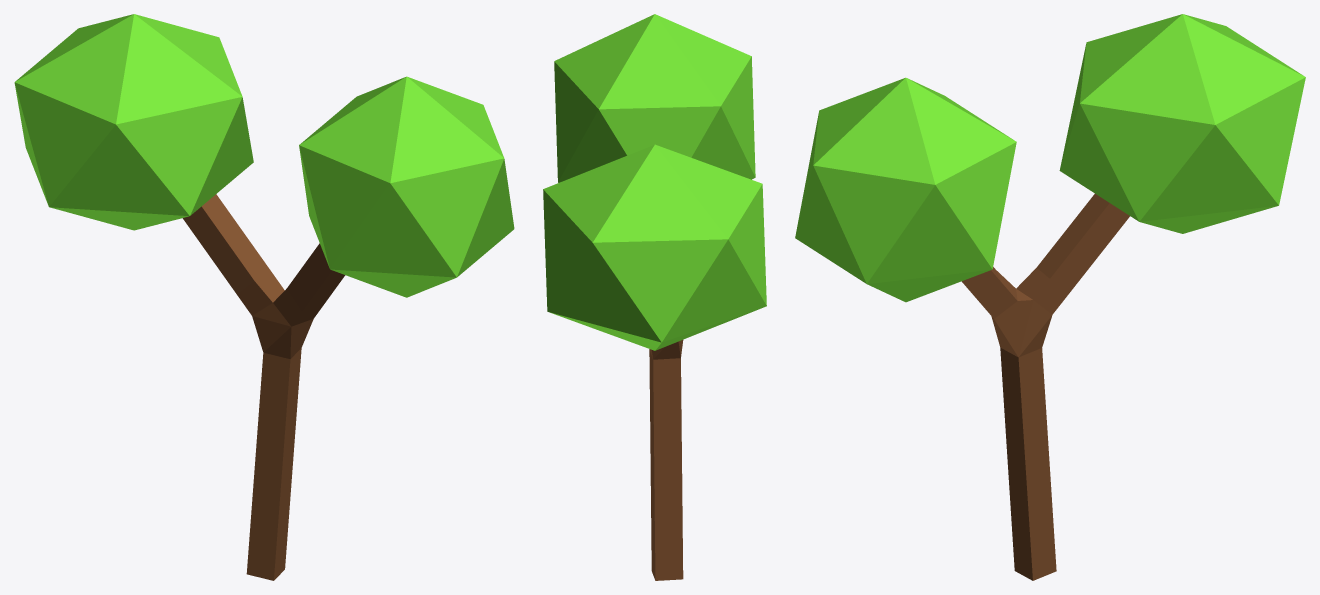
Rendered from Oak1.fbx.
3 views of the same model, side by side, from view 1: azimuth 30°, elevation 25°; view 2: azimuth 150°, elevation 25°; view 3: azimuth 270°, elevation 25° (orthographic). The views are drawn at different scales.
Parts seen in each view (by area): view 1: Icosphere.006, Icosphere.007, Cube.003; view 2: Icosphere.006, Icosphere.007, Cube.003; view 3: Icosphere.006, Icosphere.007, Cube.003.
Boxes of the visible parts, x1,y1,x2,y2 form: Icosphere.006: [14, 14, 253, 230]; Icosphere.007: [299, 76, 514, 297]; Cube.003: [182, 194, 345, 580]; Icosphere.006: [543, 144, 766, 350]; Icosphere.007: [554, 14, 755, 182]; Cube.003: [649, 340, 683, 580]; Icosphere.006: [1059, 14, 1305, 233]; Icosphere.007: [795, 77, 1016, 302]; Cube.003: [962, 194, 1129, 580].
Size of the model in its own units: 35.87 by 54.65 by 47.5.
